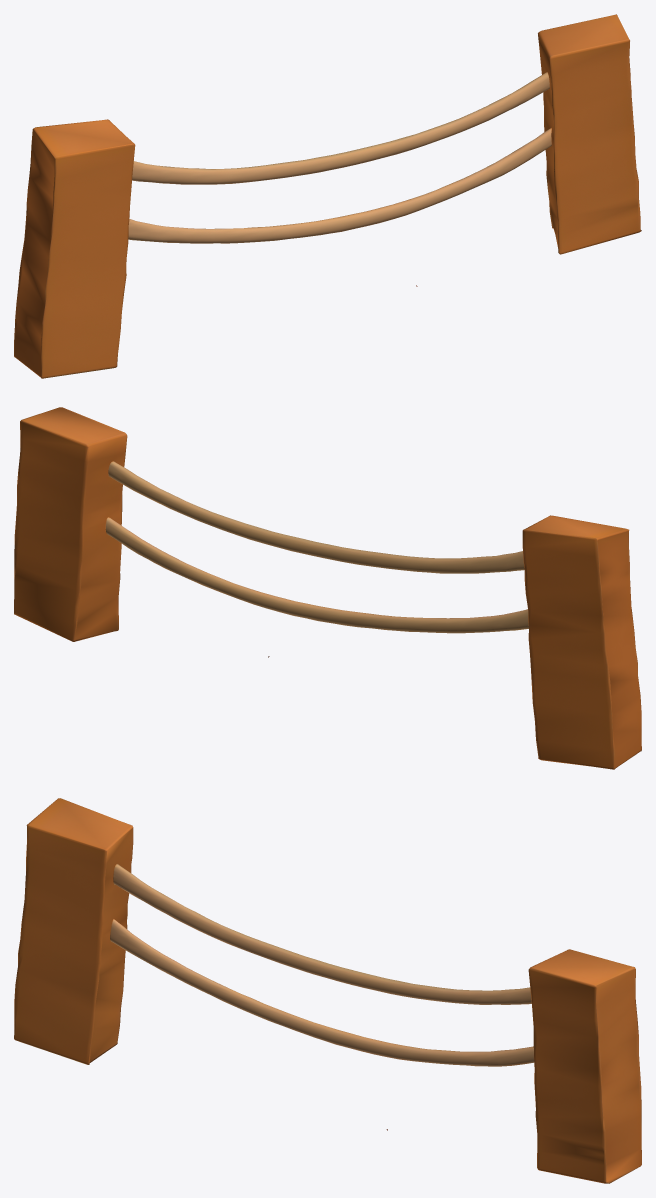
File: ropeBarricade.glb
3 views of the same model, one above another, from view 1: azimuth 30°, elevation 25°; view 2: azimuth 150°, elevation 25°; view 3: azimuth 330°, elevation 25° (orthographic).
Bounding box in the file's own units: 2.7 × 1 × 0.25.
Materials: 1 (1 with a texture image).
